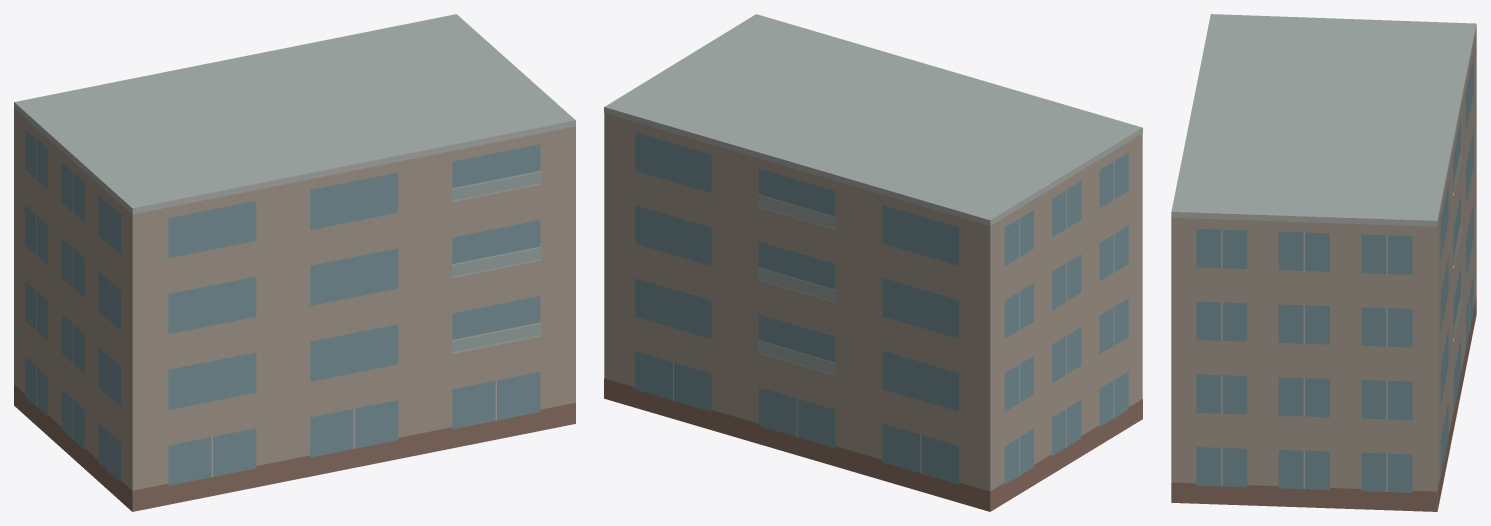
The model's file is survey-upis-32618670.glb.
3 renders of one model, left to right at view 1: azimuth 30°, elevation 25°; view 2: azimuth 150°, elevation 25°; view 3: azimuth 270°, elevation 25°, orthographic. The views are drawn at different scales.
Parts seen in each view (by area): view 1: survey-upis-32618670.tmp; view 2: survey-upis-32618670.tmp; view 3: survey-upis-32618670.tmp.
Part boxes in pixels (bbox=[...]): survey-upis-32618670.tmp: bbox=[14, 14, 575, 511]; survey-upis-32618670.tmp: bbox=[604, 14, 1142, 511]; survey-upis-32618670.tmp: bbox=[1171, 14, 1476, 511].
Bounding box in the file's own units: 18.62 × 12.2 × 11.61.
